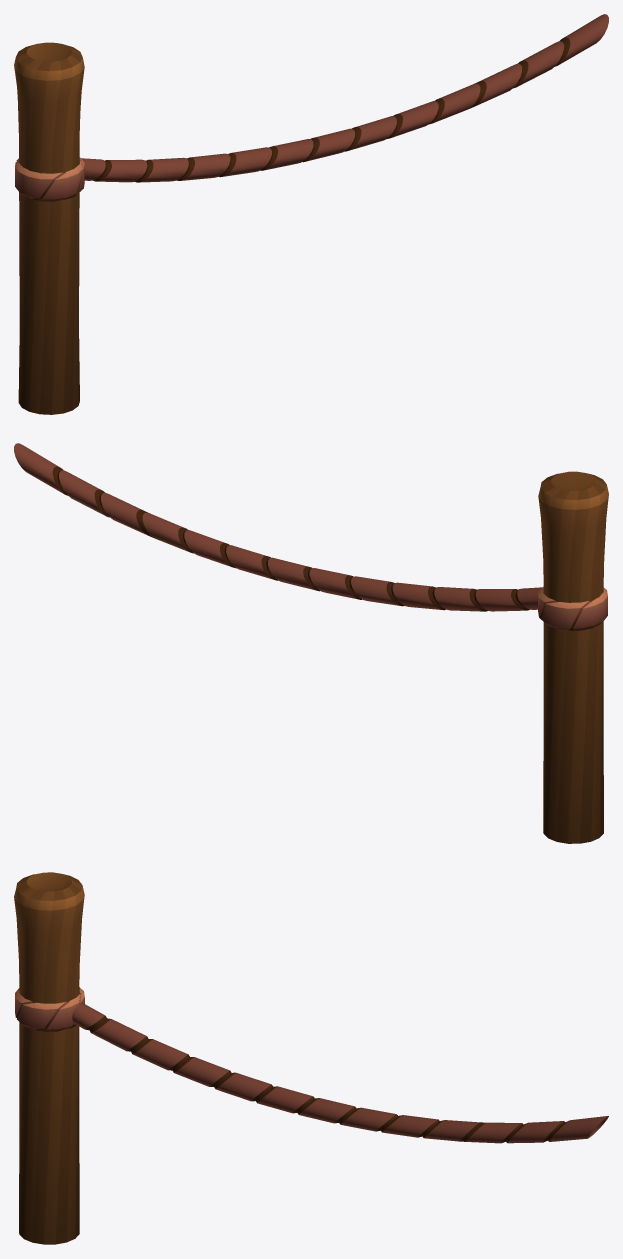
File: Deco-2-2.fbx
3 views of the same model, one above another, from view 1: azimuth 30°, elevation 25°; view 2: azimuth 150°, elevation 25°; view 3: azimuth 330°, elevation 25° (orthographic).
Visible parts, largest first — view 1: Deco-2-2; view 2: Deco-2-2; view 3: Deco-2-2.
Part boxes in pixels (box(x1,y1,x2,y2)): Deco-2-2: box(14, 14, 608, 414); Deco-2-2: box(14, 443, 608, 843); Deco-2-2: box(14, 872, 608, 1244).
Bounding box in the file's own units: 322 × 183 × 33.45.
